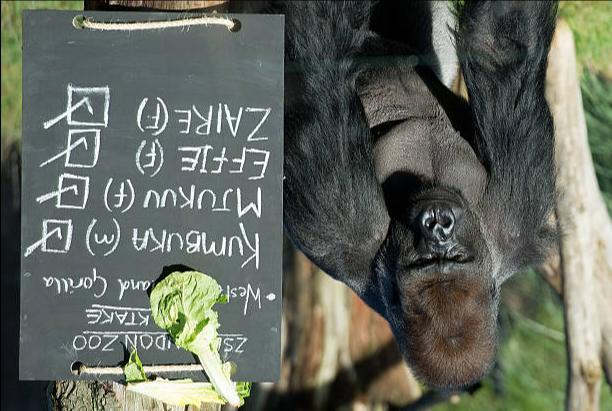gorille_Autres: (284, 0, 559, 411)
